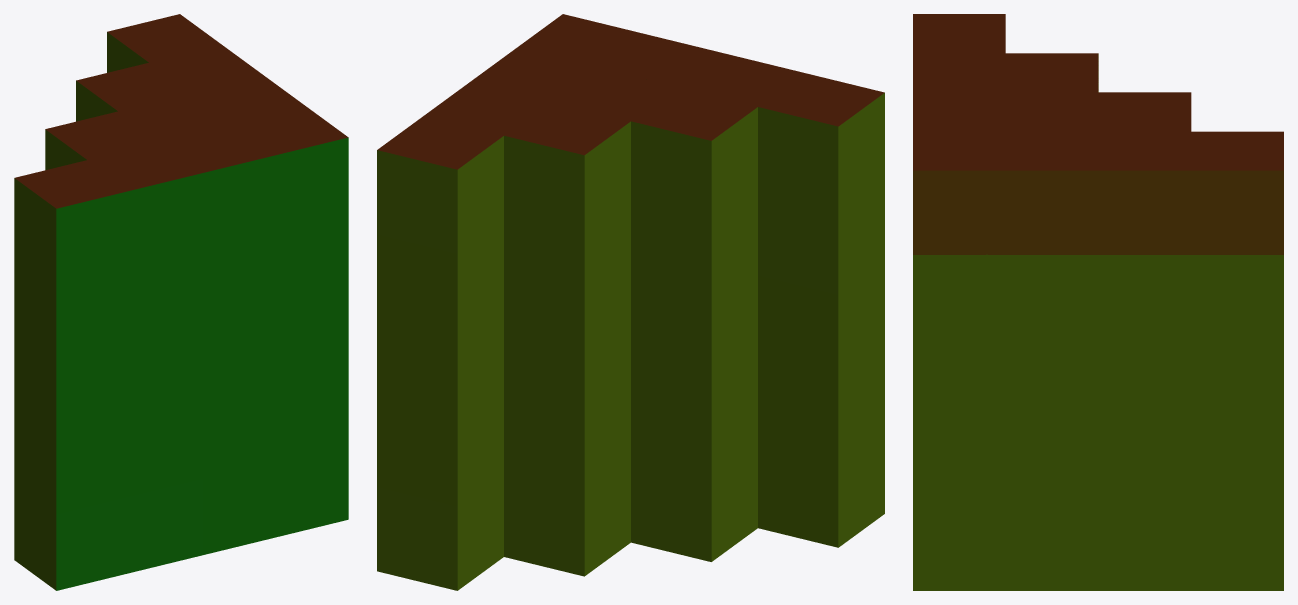
File: block_15.fbx
The picture shows the model from 3 angles, left to right: view 1: azimuth 30°, elevation 25°; view 2: azimuth 150°, elevation 25°; view 3: azimuth 270°, elevation 25°; orthographic projection. The views are drawn at different scales.
Visible parts, largest first — view 1: box.001; view 2: box.001; view 3: box.001.
Boxes of the visible parts, bbox=[...] form: box.001: bbox=[14, 14, 348, 590]; box.001: bbox=[377, 14, 884, 590]; box.001: bbox=[913, 14, 1283, 590].
Bounding box in the file's own units: 4000 × 5000 × 4000.
